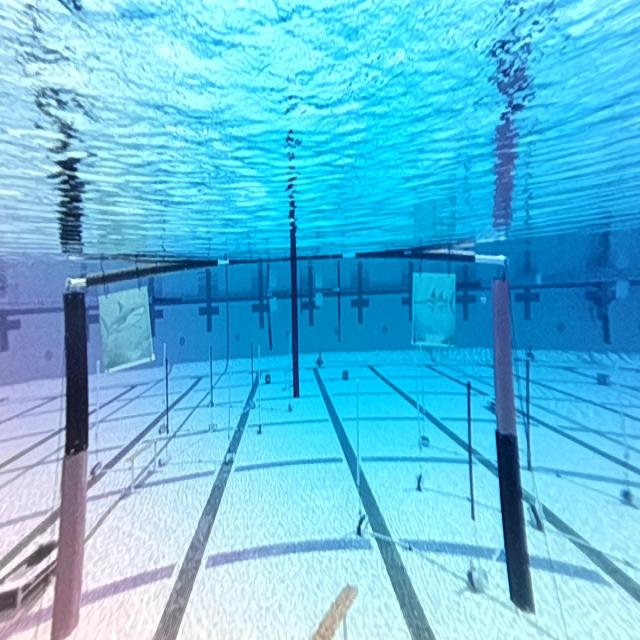pointed_nose: (413, 271, 456, 342)
round_nose: (100, 294, 153, 366)
